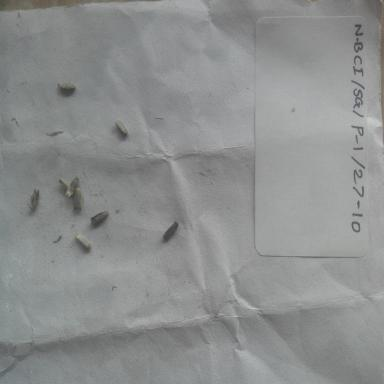pbw: (162, 220, 180, 241), (89, 209, 110, 227), (65, 174, 80, 198), (27, 188, 41, 212), (58, 173, 75, 192), (114, 117, 130, 137), (72, 184, 84, 210), (56, 80, 77, 94), (75, 233, 92, 250)
